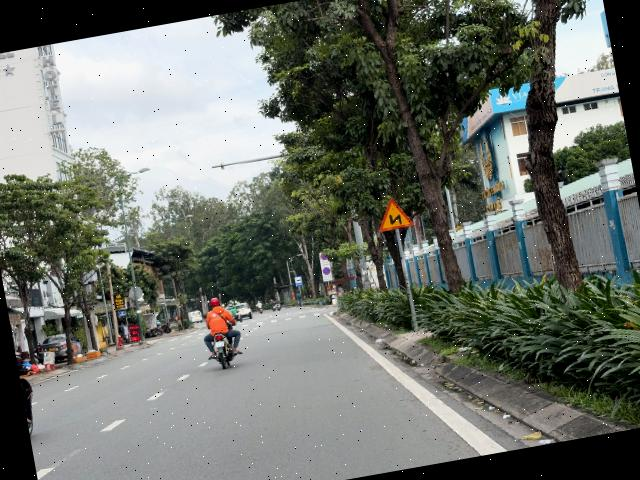nhieu-cho-ngoat-nguy-hiem-lien-tiep: (374, 196, 414, 230)
